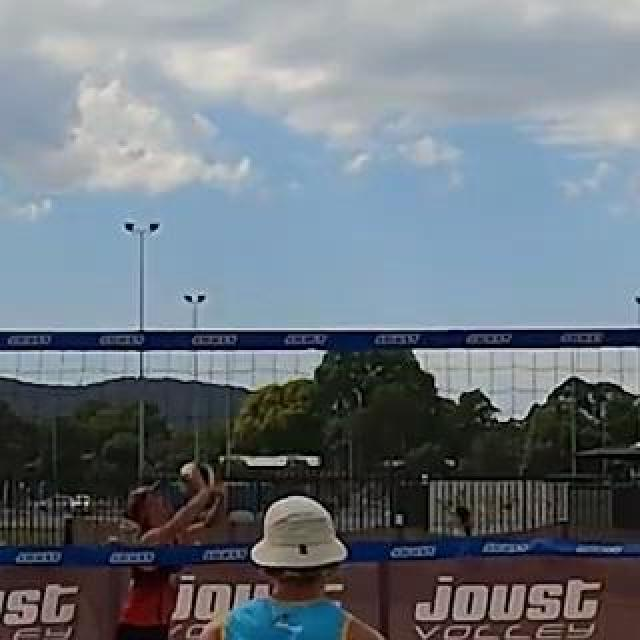volleyball: (177, 459, 215, 499)
